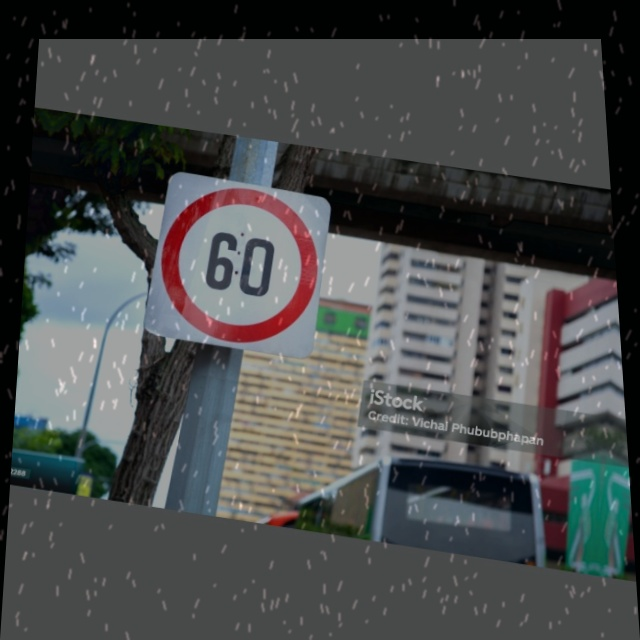Speed_Limit_60: (140, 174, 336, 362)
